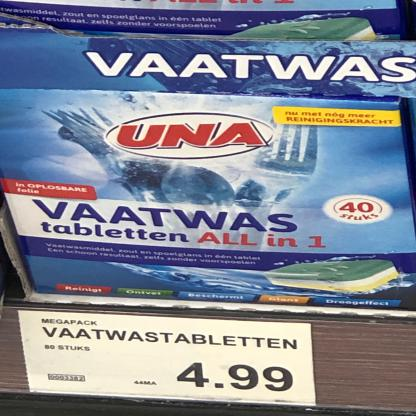prtg: (19, 312, 317, 407)
